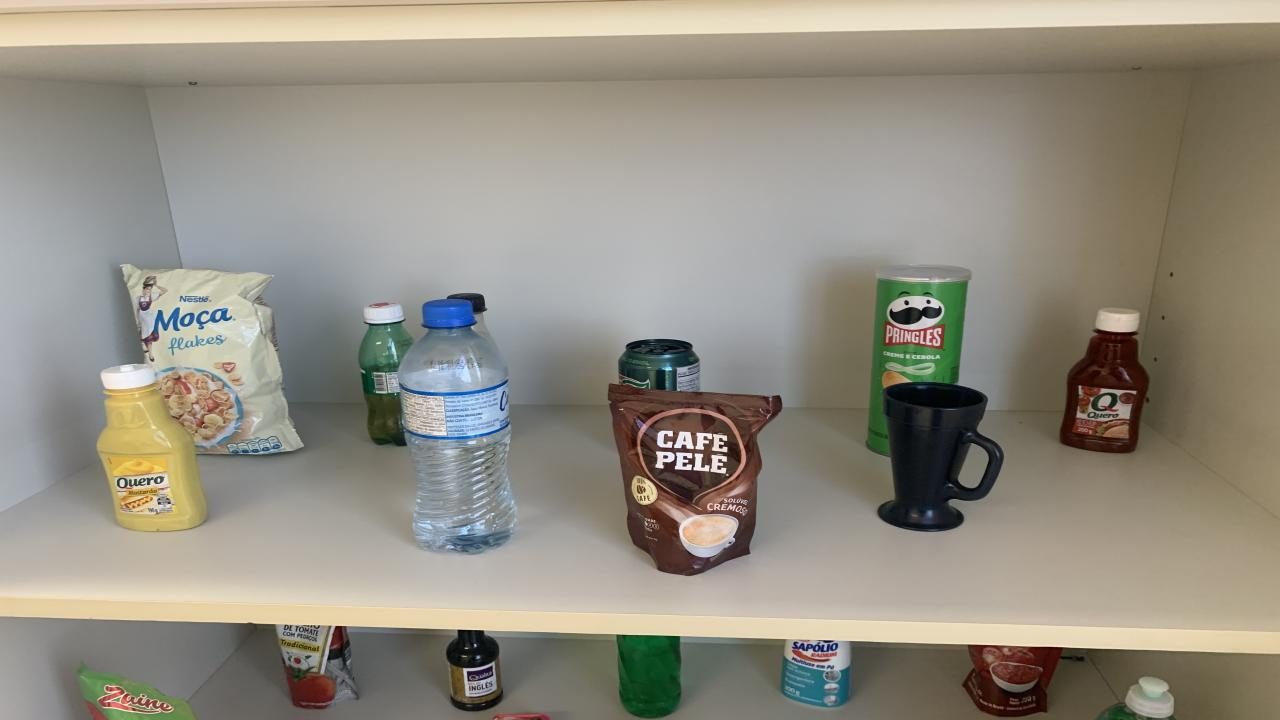Cleaner-Cleanup_Items: (780, 639, 850, 707)
Coffee-Pantry_Items: (608, 384, 782, 576)
Detergent-Cleanup_Items: (618, 636, 682, 718), (1098, 677, 1175, 720)
English_Sauce-Pantry_Items: (445, 630, 502, 711)
Flakes-Snacks: (122, 264, 302, 454)
Guarana-Drinks: (358, 302, 412, 446)
Guarana_Can-Drinks: (618, 339, 700, 392)
Ketchup-Pantry_Items: (1060, 308, 1150, 452)
Mustard-Pantry_Items: (98, 364, 208, 531)
Pringles-Snacks: (868, 264, 972, 454)
Soda-Drinks: (448, 292, 495, 343)
Tomato_Sauce-Pantry_Items: (962, 645, 1062, 716), (278, 624, 358, 709), (78, 666, 195, 720)
Water_Bottle-Drinks: (398, 300, 515, 553)
